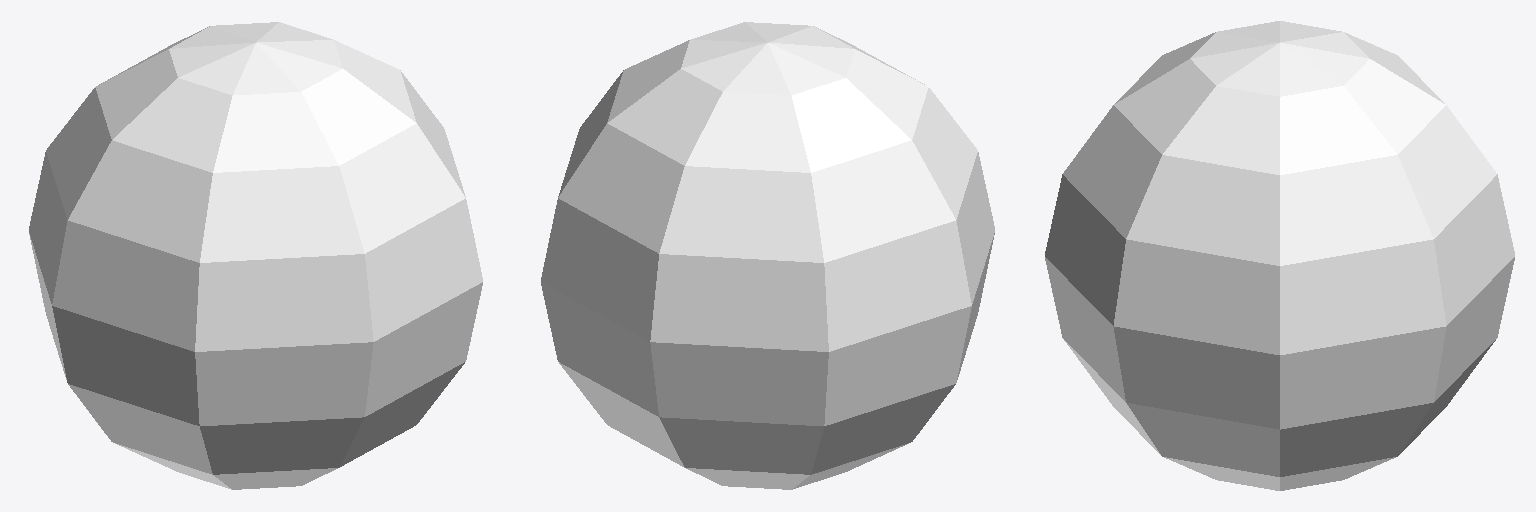
The picture shows the model from 3 angles: view 1: azimuth 30°, elevation 25°; view 2: azimuth 150°, elevation 25°; view 3: azimuth 270°, elevation 25°; orthographic projection.
Parts seen in each view (by area): view 1: Sphere; view 2: Sphere; view 3: Sphere.
Boxes of the visible parts, x1=… form: Sphere: x1=29, y1=22, x2=482, y2=489; Sphere: x1=541, y1=22, x2=994, y2=489; Sphere: x1=1045, y1=21, x2=1514, y2=490.
Size of the model in its own units: 2 by 2 by 2.
Materials: 1 (1 with a texture image).